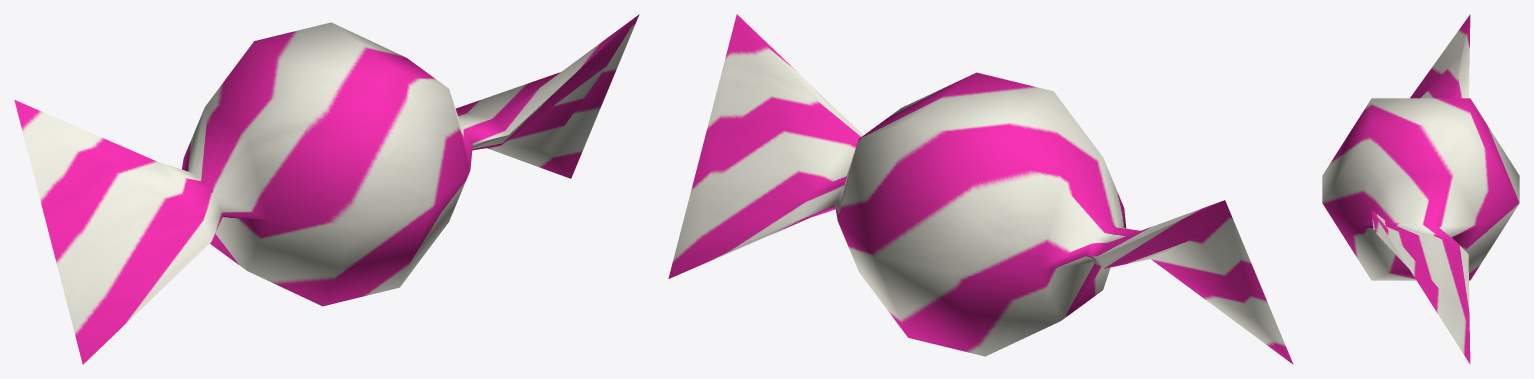
The model's file is CandyPink.fbx.
3 views of the same model, side by side, from view 1: azimuth 30°, elevation 25°; view 2: azimuth 150°, elevation 25°; view 3: azimuth 270°, elevation 25° (orthographic). The views are drawn at different scales.
Visible parts, largest first — view 1: Empty_Mesh; view 2: Empty_Mesh; view 3: Empty_Mesh.
Part boxes in pixels (x1,y1,x2,y2): Empty_Mesh: (14, 14, 639, 364); Empty_Mesh: (668, 14, 1293, 364); Empty_Mesh: (1322, 14, 1519, 364).
Bounding box in the file's own units: 0.4462 × 0.1647 × 0.1902.
